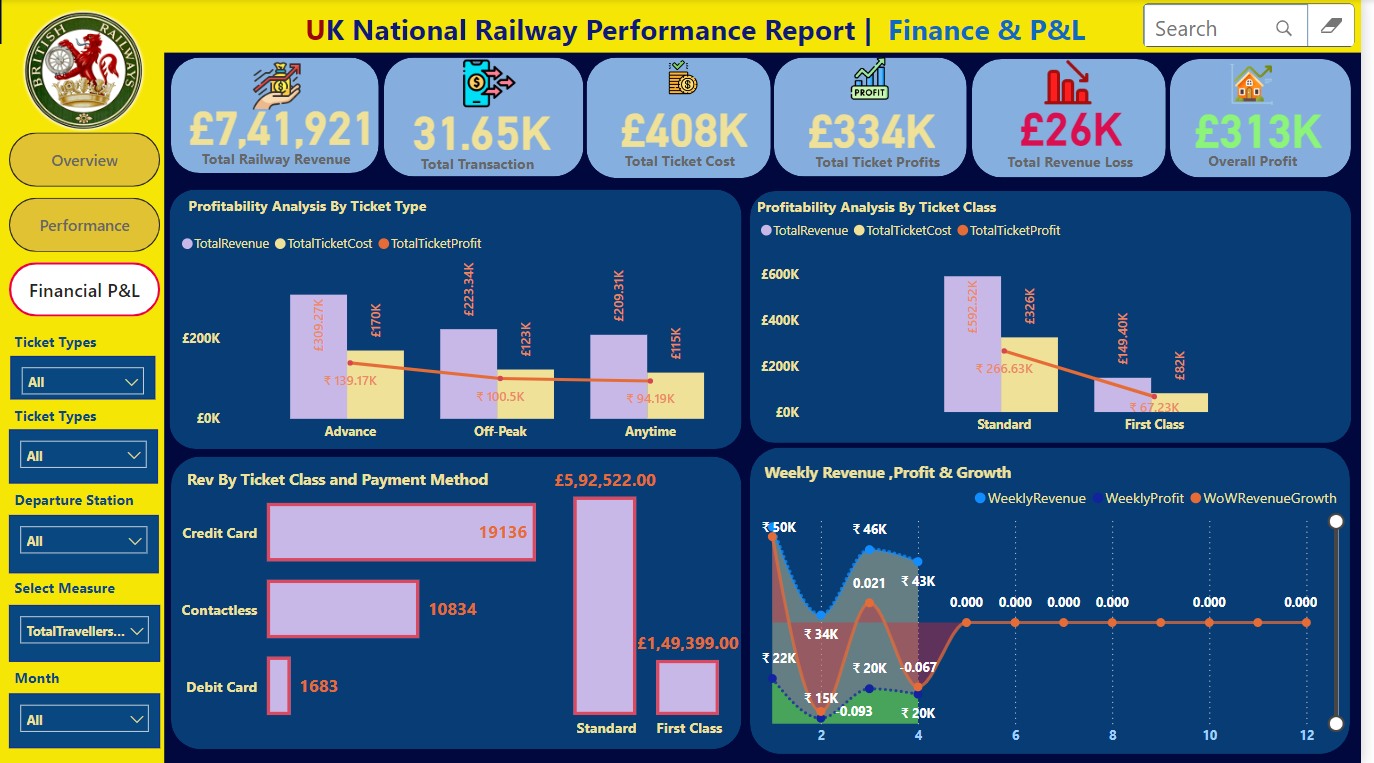

The dashboard page shown, as its layout file describes it:
{"tool":"powerbi","page":{"name":"Financial P&L","canvas":[1280,720],"ordinal":2},"visuals":[{"type":"shape","box":[705.6,422.1,563.9,288.2],"z":0},{"type":"shape","box":[0,272.9,124.3,168.6],"z":1000},{"type":"shape","box":[0,42.5,154.4,678.9],"z":2000},{"type":"shape","box":[727.7,55.1,181.1,111.8],"z":3000},{"type":"shape","box":[551.3,55.1,173.3,113.4],"z":4000},{"type":"shape","box":[360.7,55.1,187.4,111.8],"z":5000},{"type":"shape","box":[704.8,180.3,565.1,237],"z":6000},{"type":"shape","box":[161,429.8,536.1,275.1],"z":7000},{"type":"shape","box":[160.7,55.1,195.3,108.7],"z":8000},{"type":"shape","box":[159.4,179.7,537.7,243.8],"z":9000},{"type":"shape","box":[913.4,56.7,182.3,111.4],"z":10000},{"type":"shape","box":[1.6,0,1279,50.4],"z":11000},{"type":"card","fields":{"Values":["Calender_Table.Tickets Sold"]},"box":[346.3,91.1,210.6,58.7],"z":12000},{"type":"textbox","box":[281.3,4.7,829.9,46.9],"z":13000},{"type":"textbox","box":[184.3,135.5,237.8,78.8],"z":14000},{"type":"textbox","box":[390.6,140.2,138.6,77.2],"z":15000},{"type":"textbox","box":[761.5,137.7,243,77],"z":16000},{"type":"shape","box":[1099.7,56.7,170.1,111.4],"z":17000},{"type":"card","fields":{"Values":["Key Measures.Revenue"]},"box":[160.7,83.5,209.5,66.2],"z":18000},{"type":"cardVisual","fields":{"Data":["Calendar_Table.TotalTicketCost"]},"box":[567.1,72.9,228.9,87.1],"z":19000},{"type":"textbox","box":[582.8,137,241,77.2],"z":20000},{"type":"cardVisual","fields":{"Data":["Sum(Railway_Project.TicketProfit)"]},"box":[743.3,74.9,162,74.9],"z":21000},{"type":"cardVisual","fields":{"Data":["Key Measures.Total Refund"]},"box":[941.8,70.9,153.9,95.2],"z":22000},{"type":"textbox","box":[941.8,137.7,129.6,48.6],"z":23000},{"type":"card","fields":{"Values":["Calendar_Table.OverallProfit"]},"box":[1093.7,83,176.2,72.9],"z":24000},{"type":"textbox","box":[1130.9,137,149.6,31.5],"z":25000},{"type":"textbox","box":[171.7,179.6,719.8,34.7],"z":26000},{"type":"lineClusteredColumnComboChart","fields":{"Category":["Railway_Project.Ticket_Type"],"Y":["Key Measures.TotalRevenue","Calendar_Table.TotalTicketCost"],"Y2":["Calendar_Table.TotalTicketProfit"]},"box":[165.4,209.5,563.9,214.2],"z":27000},{"type":"lineClusteredColumnComboChart","fields":{"Y":["Key Measures.TotalRevenue","Calendar_Table.TotalTicketCost"],"Y2":["Calendar_Table.TotalTicketProfit"],"Category":["Railway_Project.Ticket_Class"]},"box":[708.8,196.9,563.9,220.5],"z":28000},{"type":"textbox","box":[706.8,180.3,243,30.4],"z":29000},{"type":"slicer","fields":{"Values":["Select Measure..Select Measure."]},"box":[7.8,568.9,142.2,53.1],"z":30000},{"type":"image","box":[4.7,0,148.5,134.4],"z":31000},{"type":"slicer","fields":{"Values":["Calendar_Table.Month Short"]},"box":[7.8,653.3,142.2,51.6],"z":32000},{"type":"textbox","box":[7.8,623.6,81.3,29.7],"z":33000},{"type":"textbox","box":[7.8,539.2,140.7,29.7],"z":34000},{"type":"textbox","box":[7.8,454.8,140.7,29.7],"z":35000},{"type":"slicer","fields":{"Values":["Railway_Project.Departure_Station_Short"]},"box":[7.8,484.5,140.7,54.7],"z":36000},{"type":"textFilter25A4896A83E0487089E2B90C9AE57C8A","fields":{"field":["Railway_Project.Route"]},"box":[1074.2,4.7,198.5,41],"z":37000},{"type":"image","box":[766,50,104,50],"z":38000},{"type":"pageNavigator","box":[7.8,125,142.2,173.5],"z":39000},{"type":"group","id":"g1","title":"Group 1","box":[7.8,307.9,137.5,68.8],"z":40000},{"type":"group","id":"g2","title":"Group 2","box":[7.8,376.7,140,79],"z":41000},{"type":"image","box":[222.1,52,74,58.3],"z":42000},{"type":"image","box":[428.3,50,62.5,59.4],"z":43000},{"type":"image","box":[578,52,128,42],"z":44000},{"type":"image","box":[959.7,50,87.5,57.8],"z":45000},{"type":"image","box":[1145.7,54.7,59.4,50],"z":46000},{"type":"slicer","fields":{"Values":["Railway_Project.Ticket_Type"]},"box":[8.1,405.1,139.7,50.6],"z":46000,"group":"g2"},{"type":"textbox","box":[7.8,376.7,139.1,29.7],"z":47000,"group":"g2"},{"type":"barChart","fields":{"Y":["Key Measures.TotalTransactions"],"Category":["Railway_Project.Payment_Method"]},"box":[164.1,431.4,392.3,278.2],"z":47000},{"type":"slicer","fields":{"Values":["Railway_Project.Ticket_Class"]},"box":[9.4,336,136,40.6],"z":48000,"group":"g1"},{"type":"clusteredColumnChart","fields":{"Category":["Railway_Project.Ticket_Class"],"Y":["Key Measures.TotalRevenue"]},"box":[463.8,427.3,289.6,277.5],"z":48000},{"type":"textbox","box":[7.8,307.9,137.5,31.3],"z":49000,"group":"g1"},{"type":"textbox","box":[170.1,435.4,399,40.5],"z":49000},{"type":"areaChart","fields":{"Y":["PL_TABLE.WeeklyRevenue","PL_TABLE.WeeklyProfit"],"Y2":["PL_TABLE.WoWRevenueGrowth"],"Category":["Calendar_Table.Month Number"]},"box":[710.4,448.9,556,261.5],"z":50000},{"type":"textbox","box":[713.7,428.5,398.2,40.5],"z":51000}]}

Visuals, with their boxes on the page's 1280x720 design canvas (x1, y1, x2, y2). These are canvas units, not pixel positions in the 1374x763 screenshot, which may show the page scaled, cropped or inside an application window:
shape: locate(706, 422, 1270, 710)
shape: locate(0, 273, 124, 442)
shape: locate(0, 42, 154, 721)
shape: locate(728, 55, 909, 167)
shape: locate(551, 55, 725, 168)
shape: locate(361, 55, 548, 167)
shape: locate(705, 180, 1270, 417)
shape: locate(161, 430, 697, 705)
shape: locate(161, 55, 356, 164)
shape: locate(159, 180, 697, 424)
shape: locate(913, 57, 1096, 168)
shape: locate(2, 0, 1281, 50)
card - Calender_Table.Tickets Sold: locate(346, 91, 557, 150)
textbox: locate(281, 5, 1111, 52)
textbox: locate(184, 136, 422, 214)
textbox: locate(391, 140, 529, 217)
textbox: locate(762, 138, 1004, 215)
shape: locate(1100, 57, 1270, 168)
card - Key Measures.Revenue: locate(161, 84, 370, 150)
cardVisual - Calendar_Table.TotalTicketCost: locate(567, 73, 796, 160)
textbox: locate(583, 137, 824, 214)
cardVisual - Sum(Railway_Project.TicketProfit): locate(743, 75, 905, 150)
cardVisual - Key Measures.Total Refund: locate(942, 71, 1096, 166)
textbox: locate(942, 138, 1071, 186)
card - Calendar_Table.OverallProfit: locate(1094, 83, 1270, 156)
textbox: locate(1131, 137, 1280, 168)
textbox: locate(172, 180, 892, 214)
lineClusteredColumnComboChart - Railway_Project.Ticket_Type x Key Measures.TotalRevenue: locate(165, 210, 729, 424)
lineClusteredColumnComboChart - Key Measures.TotalRevenue x Calendar_Table.TotalTicketCost: locate(709, 197, 1273, 417)
textbox: locate(707, 180, 950, 211)
slicer - Select Measure..Select Measure.: locate(8, 569, 150, 622)
image: locate(5, 0, 153, 134)
slicer - Calendar_Table.Month Short: locate(8, 653, 150, 705)
textbox: locate(8, 624, 89, 653)
textbox: locate(8, 539, 148, 569)
textbox: locate(8, 455, 148, 484)
slicer - Railway_Project.Departure_Station_Short: locate(8, 484, 148, 539)
textFilter25A4896A83E0487089E2B90C9AE57C8A - Railway_Project.Route: locate(1074, 5, 1273, 46)
image: locate(766, 50, 870, 100)
pageNavigator: locate(8, 125, 150, 298)
"Group 1" group: locate(8, 308, 145, 377)
"Group 2" group: locate(8, 377, 148, 456)
image: locate(222, 52, 296, 110)
image: locate(428, 50, 491, 109)
image: locate(578, 52, 706, 94)
image: locate(960, 50, 1047, 108)
image: locate(1146, 55, 1205, 105)
slicer - Railway_Project.Ticket_Type: locate(8, 405, 148, 456)
textbox: locate(8, 377, 147, 406)
barChart - Key Measures.TotalTransactions x Railway_Project.Payment_Method: locate(164, 431, 556, 710)
slicer - Railway_Project.Ticket_Class: locate(9, 336, 145, 377)
clusteredColumnChart - Railway_Project.Ticket_Class x Key Measures.TotalRevenue: locate(464, 427, 753, 705)
textbox: locate(8, 308, 145, 339)
textbox: locate(170, 435, 569, 476)
areaChart - PL_TABLE.WeeklyRevenue x PL_TABLE.WeeklyProfit: locate(710, 449, 1266, 710)
textbox: locate(714, 428, 1112, 469)
